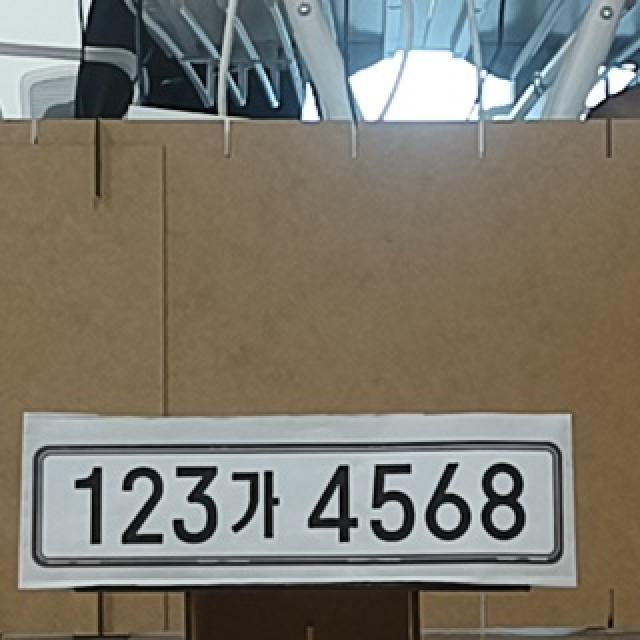normal: (34, 446, 561, 566)
